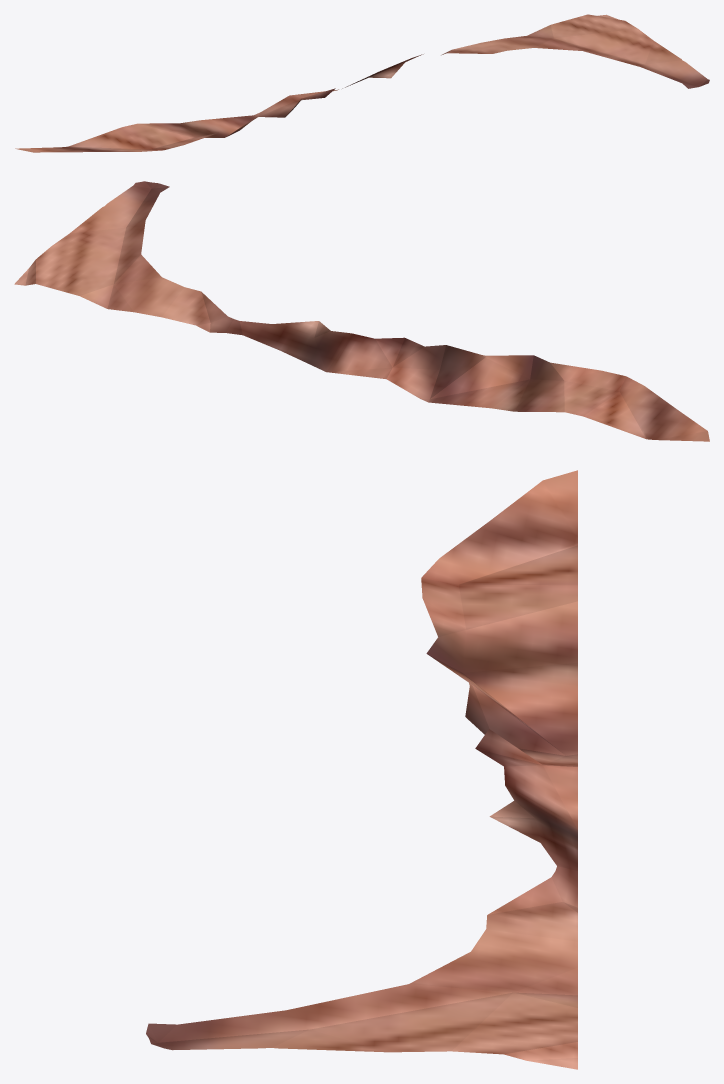
3 renders of one model, top to bottom at view 1: azimuth 30°, elevation 25°; view 2: azimuth 150°, elevation 25°; view 3: azimuth 270°, elevation 25°, orthographic. The views are drawn at different scales.
Bounding box in the file's own units: 0.7104 × 0.0288 × 0.2244.
Materials: 1 (1 with a texture image).
